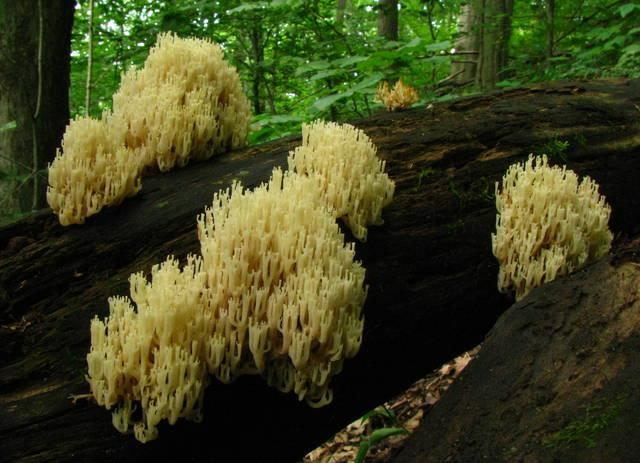Edible Mushroom: (74, 116, 396, 443), (44, 29, 252, 226), (489, 151, 614, 301), (45, 111, 145, 226)
